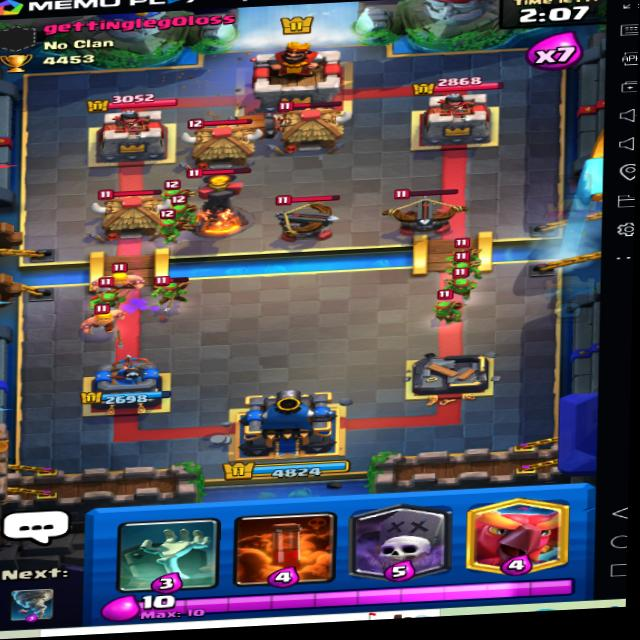barbarian: (74, 298, 136, 335), (90, 259, 150, 294)
barbarian-barrel: (220, 107, 284, 139)
goblin-hut: (88, 182, 176, 240), (178, 113, 262, 171), (269, 97, 353, 153)
inferno-tower: (170, 157, 262, 242)
spear-goblin: (445, 266, 484, 305), (427, 288, 465, 325), (151, 274, 192, 305), (143, 211, 182, 241), (91, 279, 126, 310), (157, 179, 195, 205), (167, 195, 198, 225), (448, 251, 473, 283)
x-bow: (385, 175, 469, 237), (262, 185, 345, 243)
